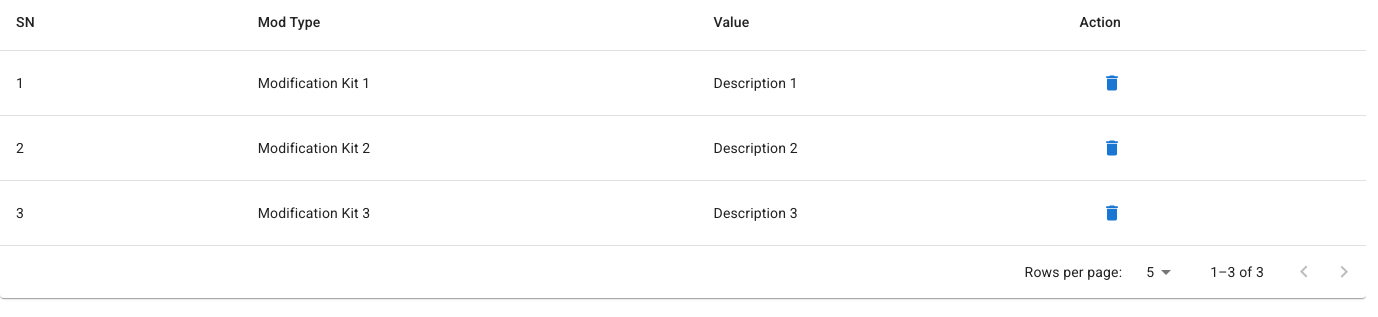
Test: ModsKitsTable Component › handles row deletion correctly
Note: Click the delete button
What coordinates should you click on to do the following:
click the button with test id "mods-kit-delete-button"
I would click on:
 (1112, 83)
Its box is [1080,67,1144,99].
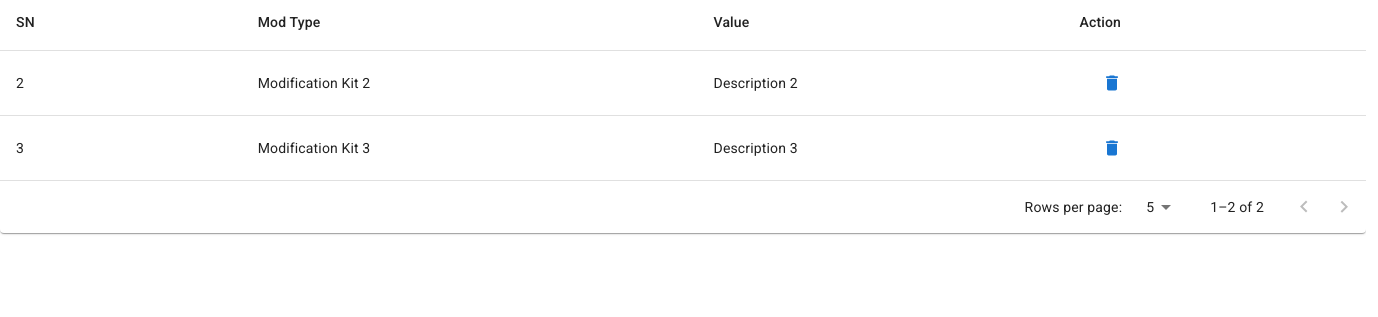
Expected: the text "Modification Kit 1" is gone
Expected: the text "Description 1" is gone
